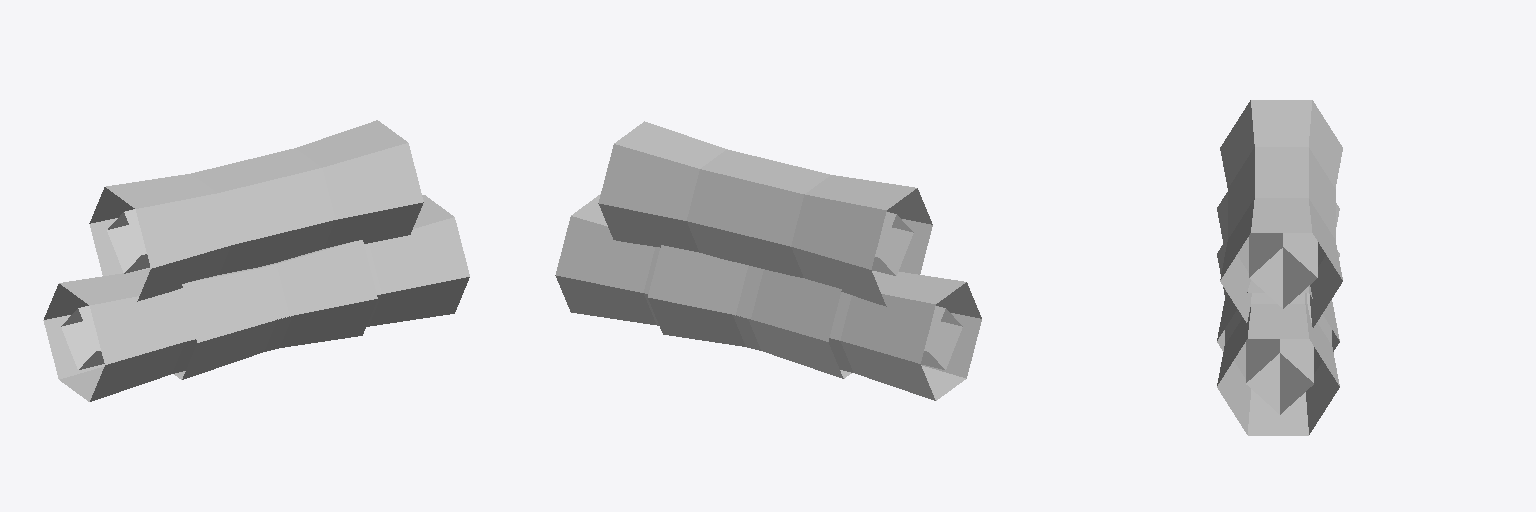
The model's file is Straw01.obj.
3 views of the same model, side by side, from view 1: azimuth 30°, elevation 25°; view 2: azimuth 150°, elevation 25°; view 3: azimuth 270°, elevation 25° (orthographic).
Parts seen in each view (by area): view 1: Mesh_0; view 2: Mesh_0; view 3: Mesh_0.
Boxes of the visible parts, x1=… form: Mesh_0: x1=43, y1=120, x2=469, y2=401; Mesh_0: x1=555, y1=121, x2=981, y2=400; Mesh_0: x1=1217, y1=100, x2=1342, y2=435.
Size of the model in its own units: 2.73 by 1.29 by 0.8187.